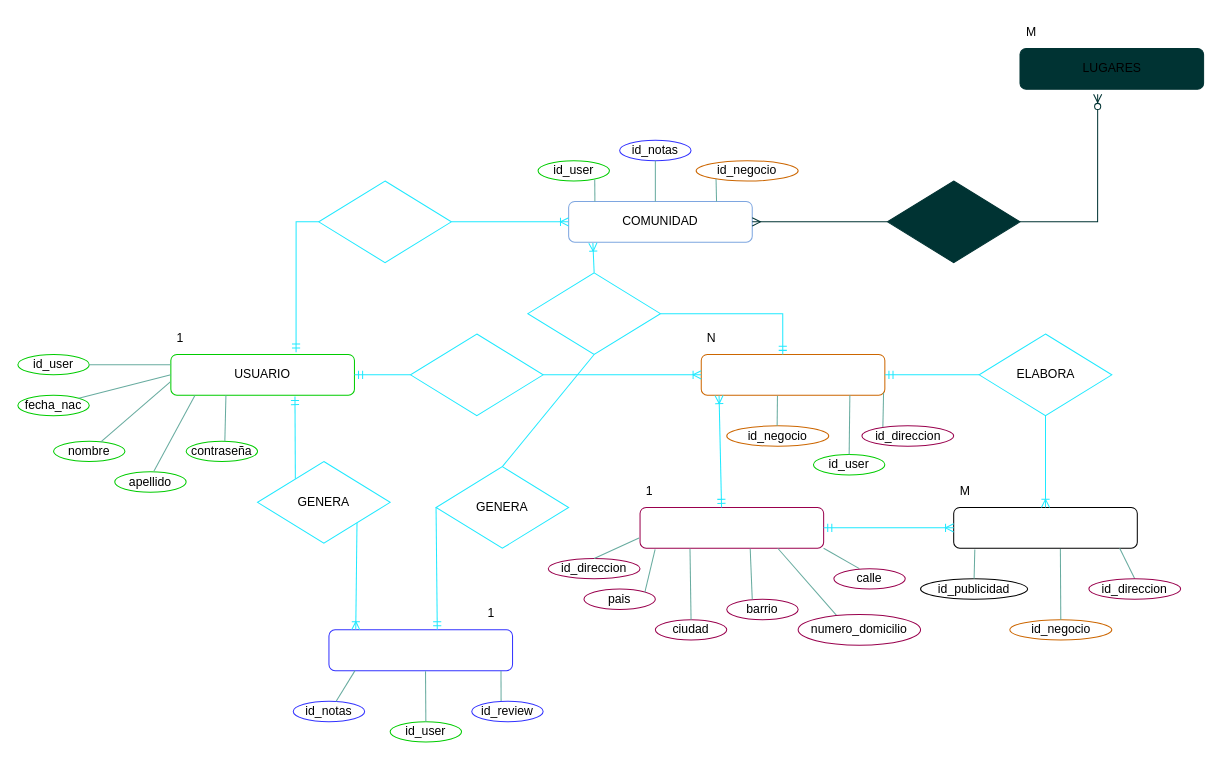
Image size: 1222x760. Some labels were removed from this diagram. The shapes that lost their labels are listed below. From the top down, each one's centre as x and y in pixels, then its label:
point (384, 221): INTERACTUA
point (953, 221): BUSCA
point (593, 313): MUESTRA
point (476, 374): ABRE
point (792, 374): NEGOCIOS
point (731, 527): DIRECCIÓN
point (1045, 527): PUBLICIDAD
point (420, 650): CONTRIBUCIONES
